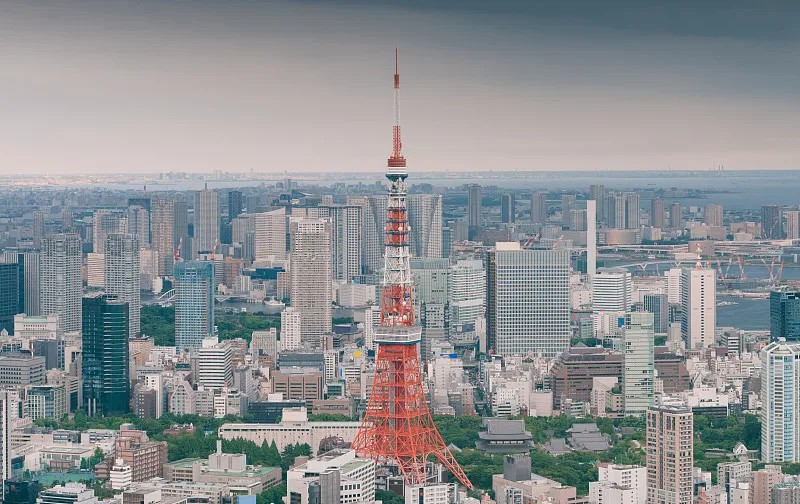Tokyo: (351, 44, 474, 494)
